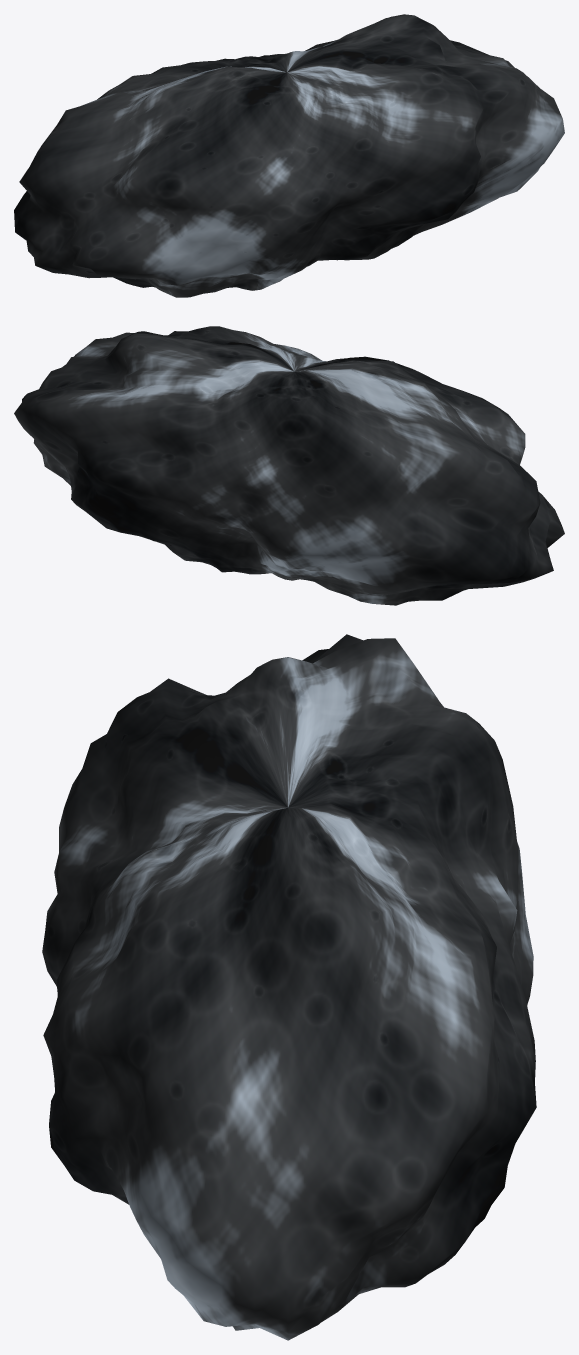
File: comet.glb
The picture shows the model from 3 angles, top to bottom: view 1: azimuth 30°, elevation 25°; view 2: azimuth 150°, elevation 25°; view 3: azimuth 270°, elevation 25°; orthographic projection. The views are drawn at different scales.
Visible parts, largest first — view 1: comet | nucleus; view 2: comet | nucleus; view 3: comet | nucleus.
Boxes of the visible parts, x1,y1,x2,y2 form: comet | nucleus: (14,14,564,297); comet | nucleus: (14,326,564,605); comet | nucleus: (42,634,536,1340).
Bounding box in the file's own units: 2.96 × 1.16 × 1.24.
Materials: 1 (1 with a texture image).
